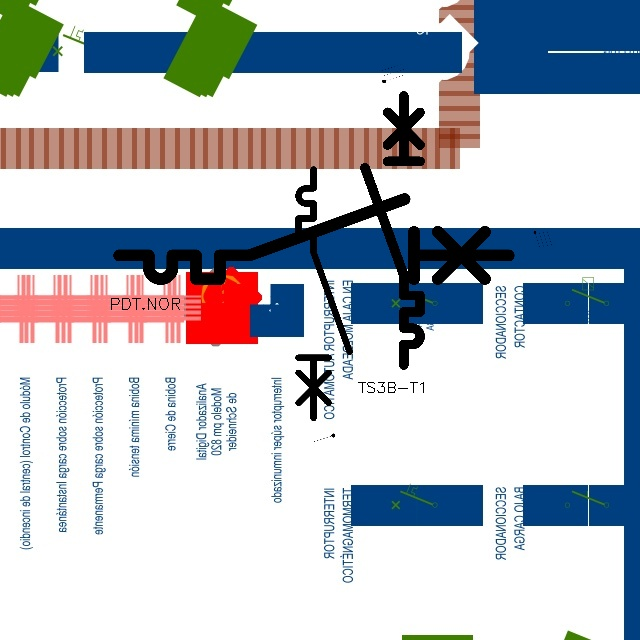interruptor_termomagnetico: (109, 189, 518, 289), (358, 89, 427, 372), (292, 163, 356, 424)
